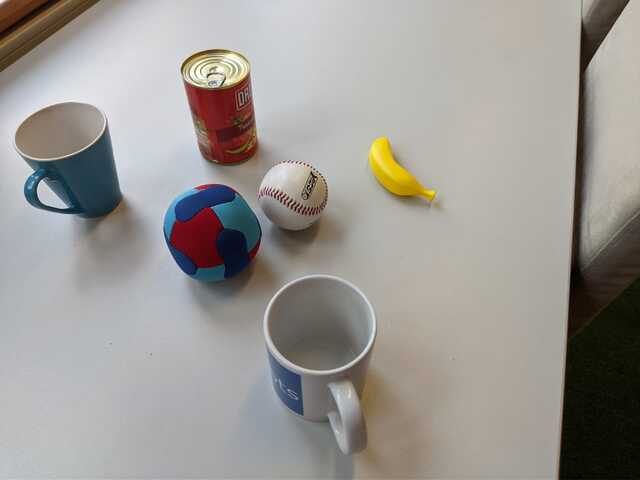005_tomato_soup_can: (174, 44, 264, 166)
011_banana: (363, 129, 443, 211)
025_mug: (260, 272, 390, 456), (10, 98, 131, 221)
055_baseball: (258, 158, 338, 235)
057_racquetball: (160, 180, 261, 290)
